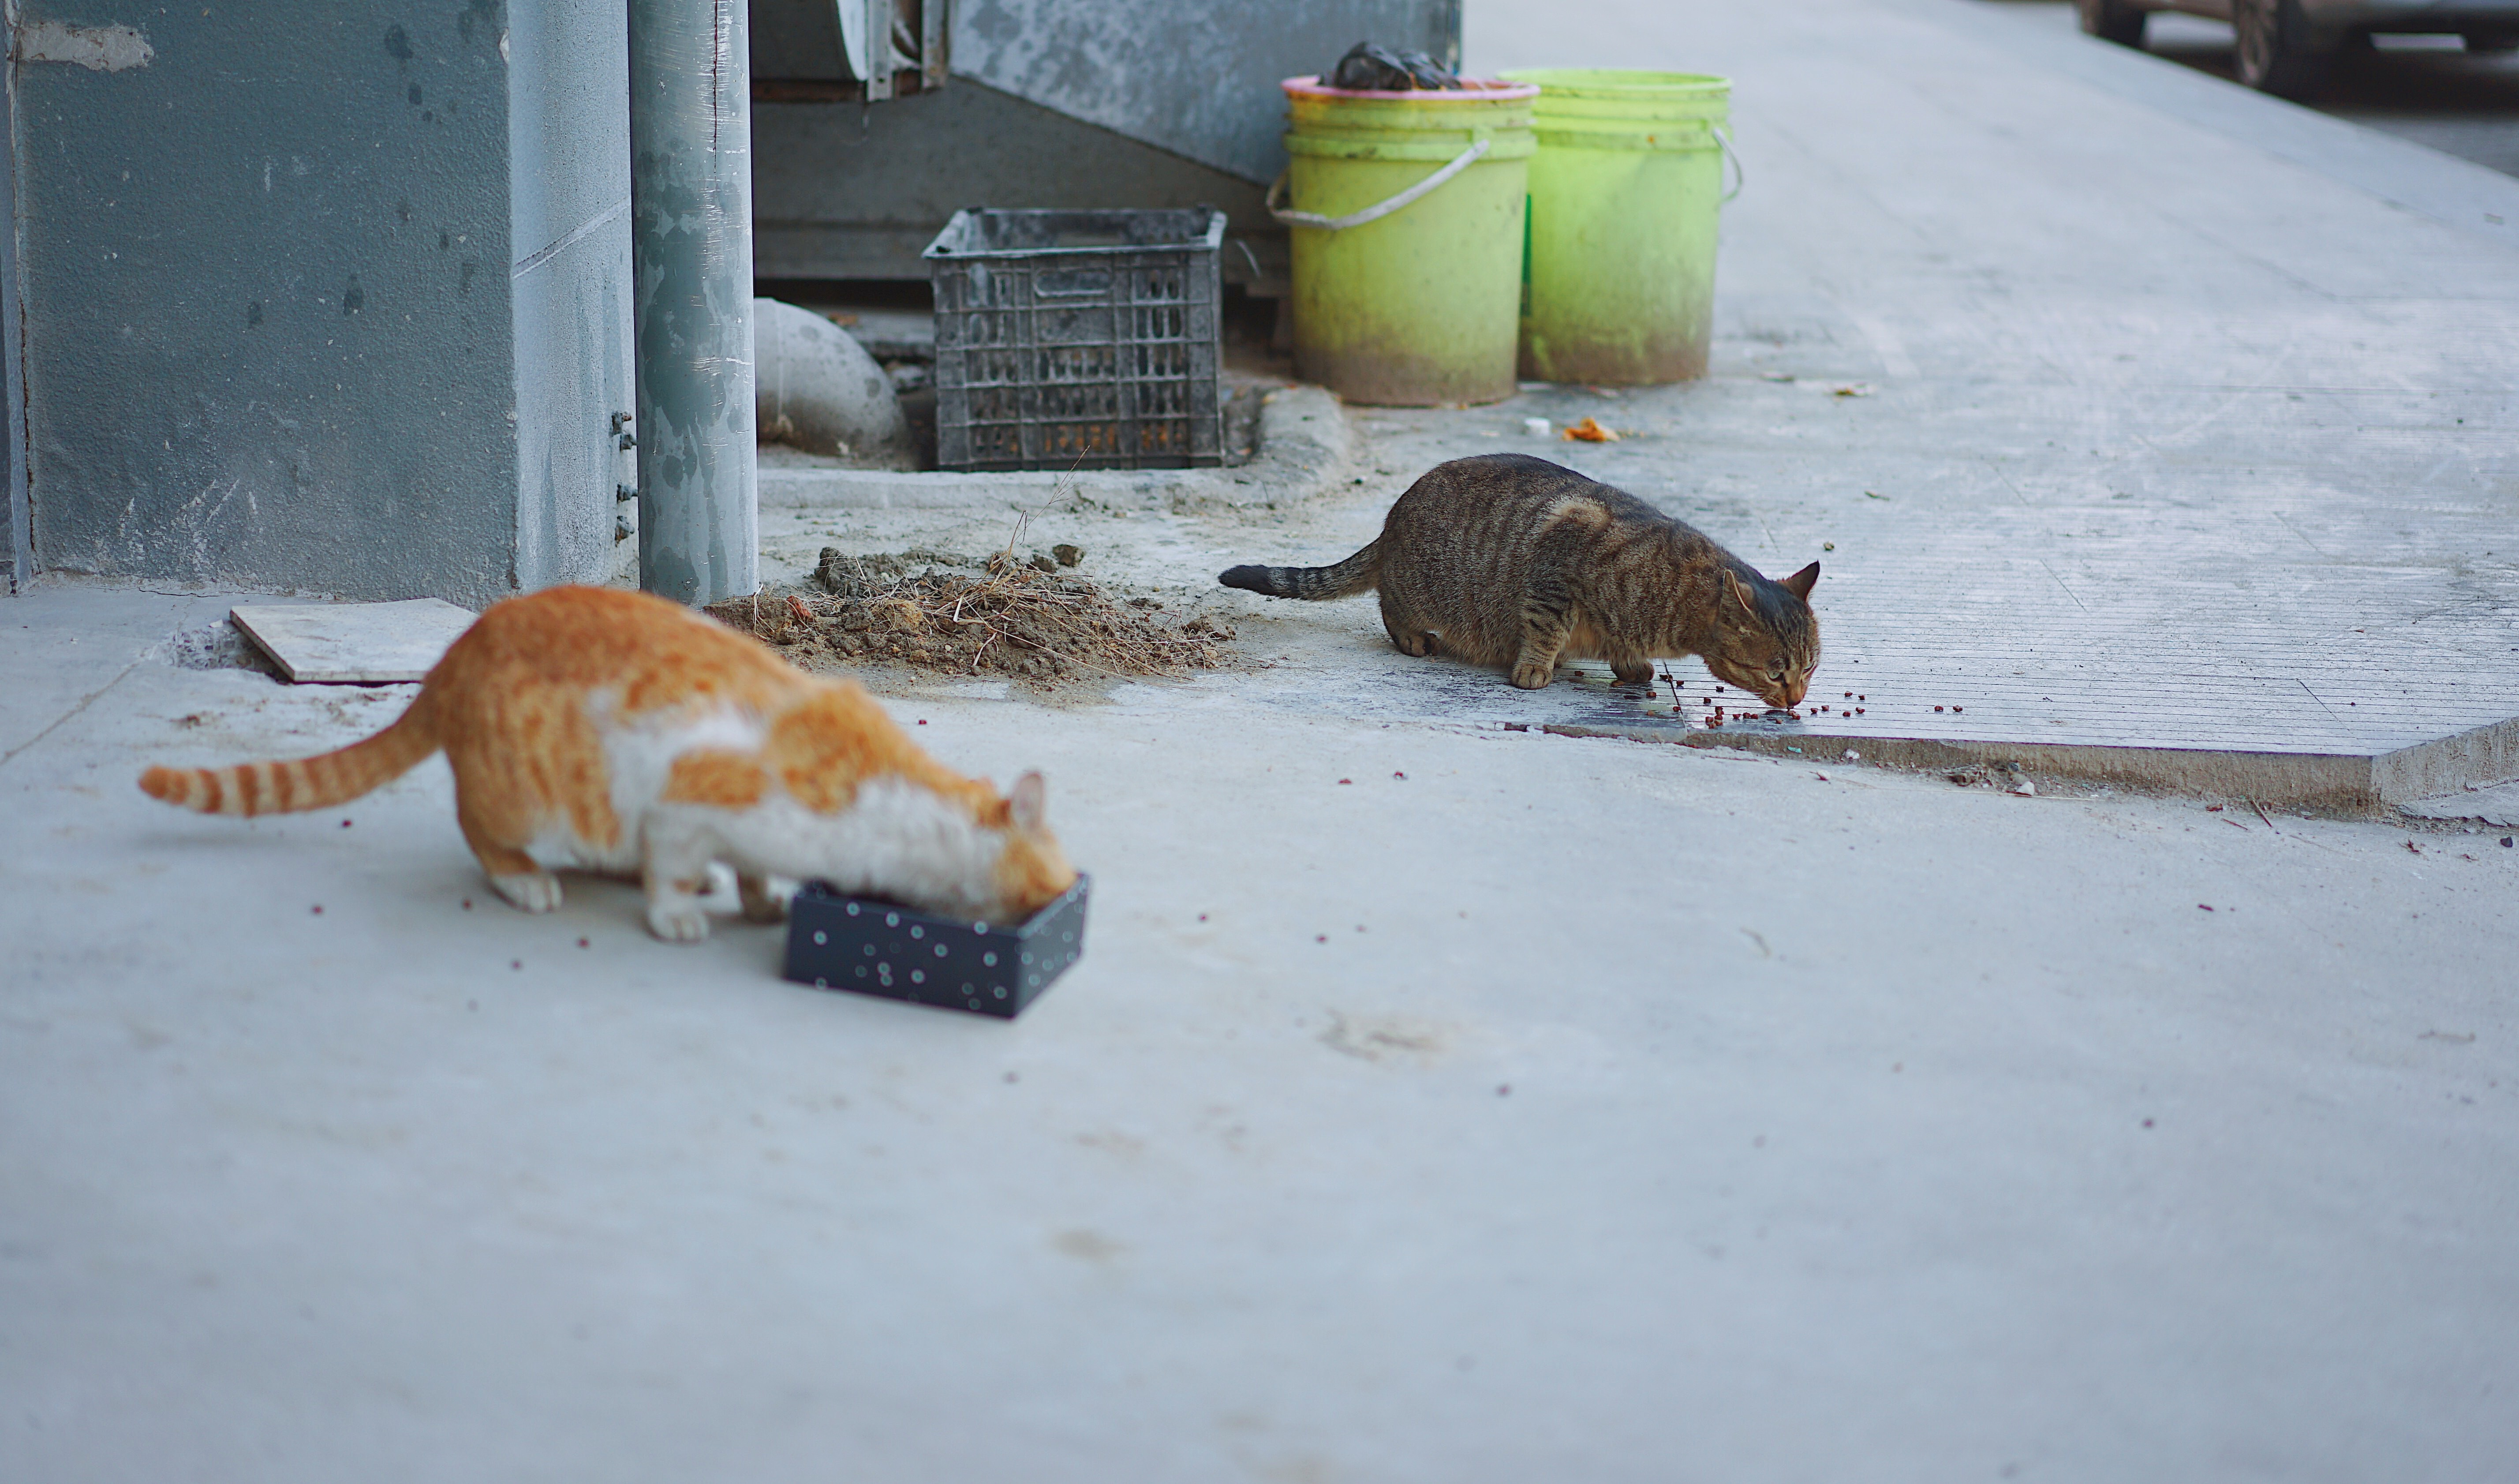cat: (136, 583, 1074, 947), (1217, 456, 1825, 719)
